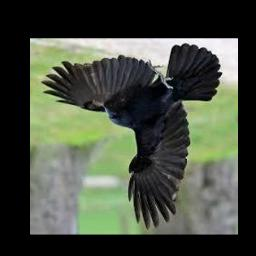Crow: (40, 44, 222, 230)
